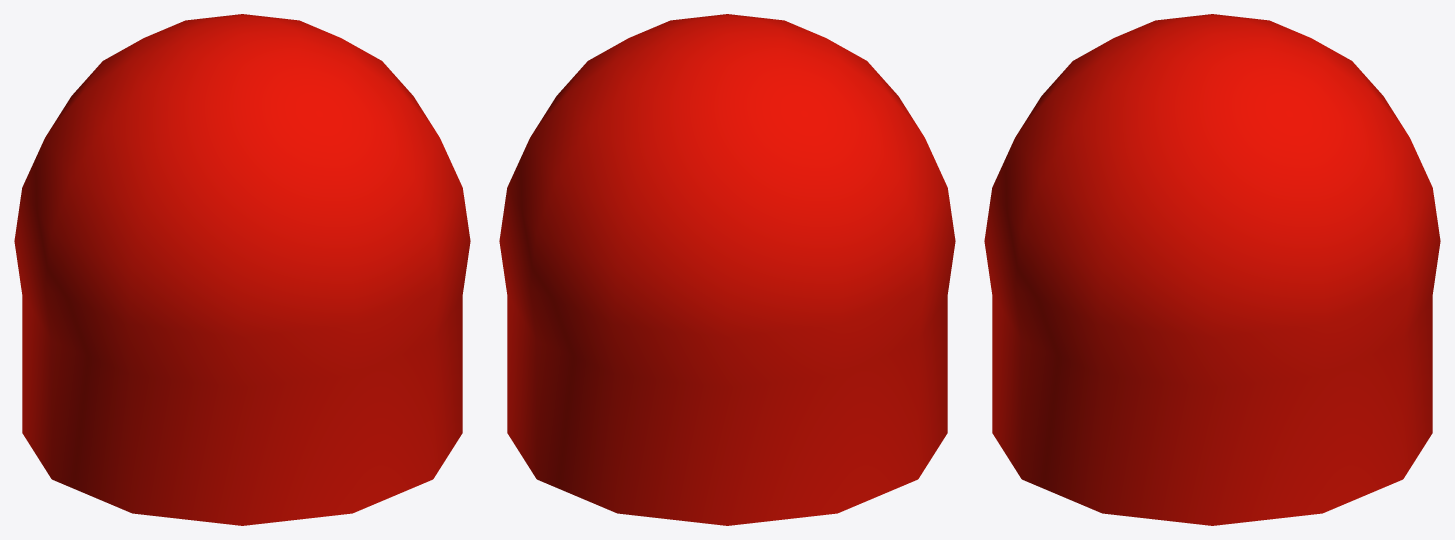
Rendered from bulb.fbx.
3 views of the same model, side by side, from view 1: azimuth 30°, elevation 25°; view 2: azimuth 150°, elevation 25°; view 3: azimuth 270°, elevation 25° (orthographic).
Visible parts, largest first — view 1: Bulb; view 2: Bulb; view 3: Bulb.
Part boxes in pixels (x1=…): Bulb: x1=14, y1=14, x2=470, y2=525; Bulb: x1=499, y1=14, x2=955, y2=525; Bulb: x1=984, y1=14, x2=1440, y2=525.
Size of the model in its own units: 6.03 by 5.81 by 6.03.
